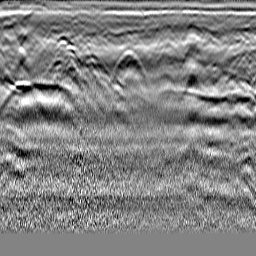cavity: (112, 49, 143, 74)
